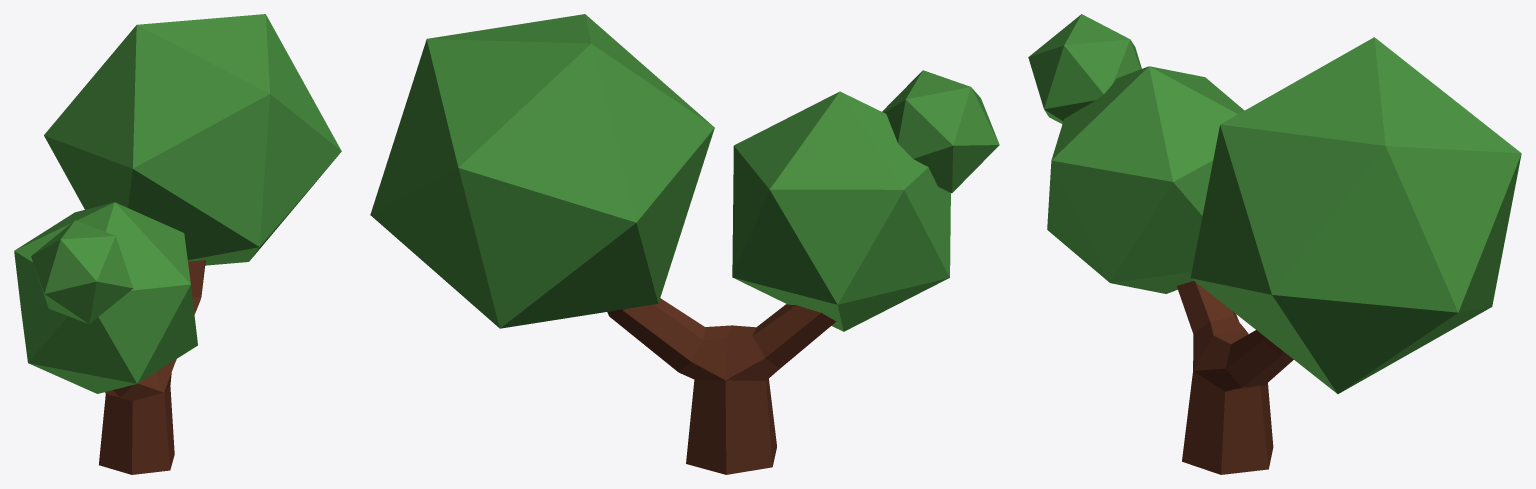
File: Arbuste.glb
The picture shows the model from 3 angles, left to right: view 1: azimuth 30°, elevation 25°; view 2: azimuth 150°, elevation 25°; view 3: azimuth 270°, elevation 25°; orthographic projection. The views are drawn at different scales.
Visible parts, largest first — view 1: Tree_lp_11; view 2: Tree_lp_11; view 3: Tree_lp_11.
Boxes of the visible parts, <box> form: Tree_lp_11: <box>14,14,341,474</box>; Tree_lp_11: <box>370,14,999,474</box>; Tree_lp_11: <box>1028,14,1521,474</box>.
Size of the model in its own units: 16.2 by 15.34 by 15.13.
